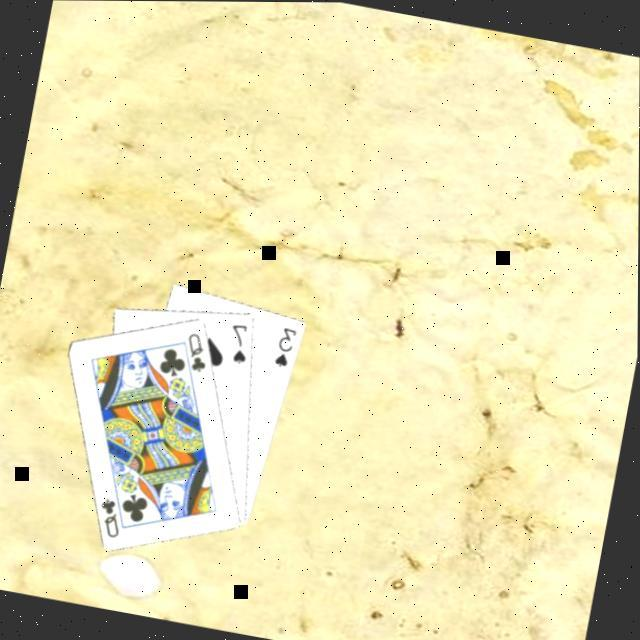3S: (268, 322, 298, 371)
7S: (221, 318, 253, 368)
QC: (90, 494, 126, 542), (177, 328, 213, 375)
